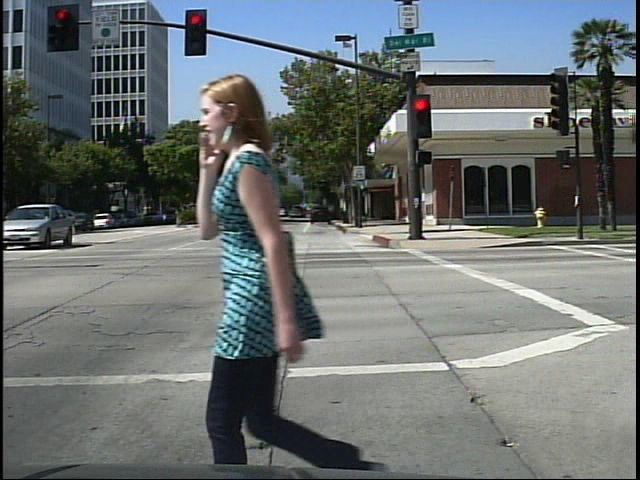person: (200, 74, 391, 477)
